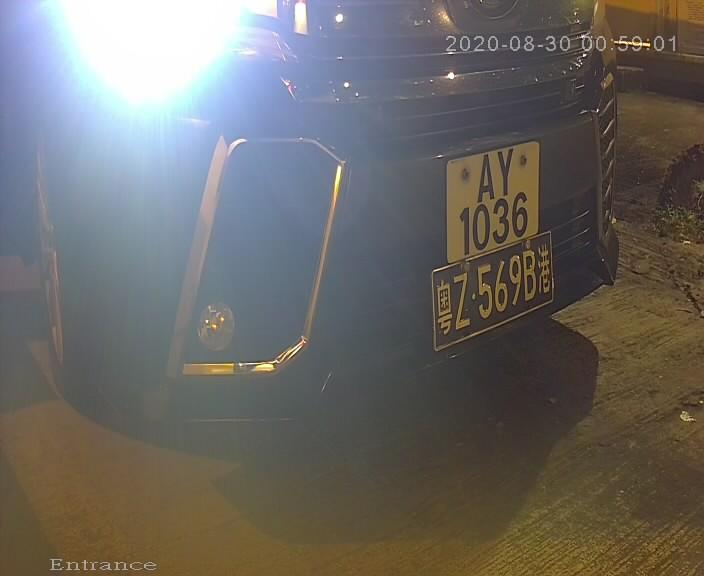License Plate: (437, 127, 547, 301)
